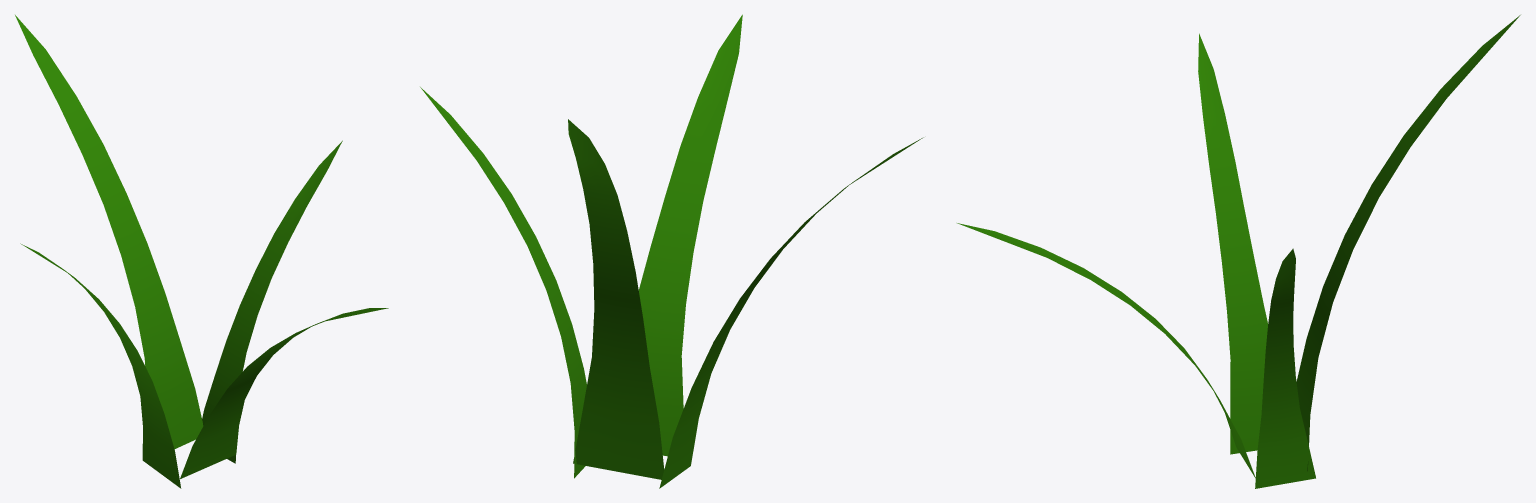
File: Grass_Sprout.fbx
3 views of the same model, side by side, from view 1: azimuth 30°, elevation 25°; view 2: azimuth 150°, elevation 25°; view 3: azimuth 270°, elevation 25° (orthographic). The views are drawn at different scales.
Visible parts, largest first — view 1: Grass_Sprout13; view 2: Grass_Sprout13; view 3: Grass_Sprout13.
Part boxes in pixels (x1,y1,x2,y2): Grass_Sprout13: [15, 15, 388, 488]; Grass_Sprout13: [420, 14, 923, 488]; Grass_Sprout13: [957, 15, 1520, 488].
Size of the model in its own units: 5.01 by 5.04 by 6.12.
